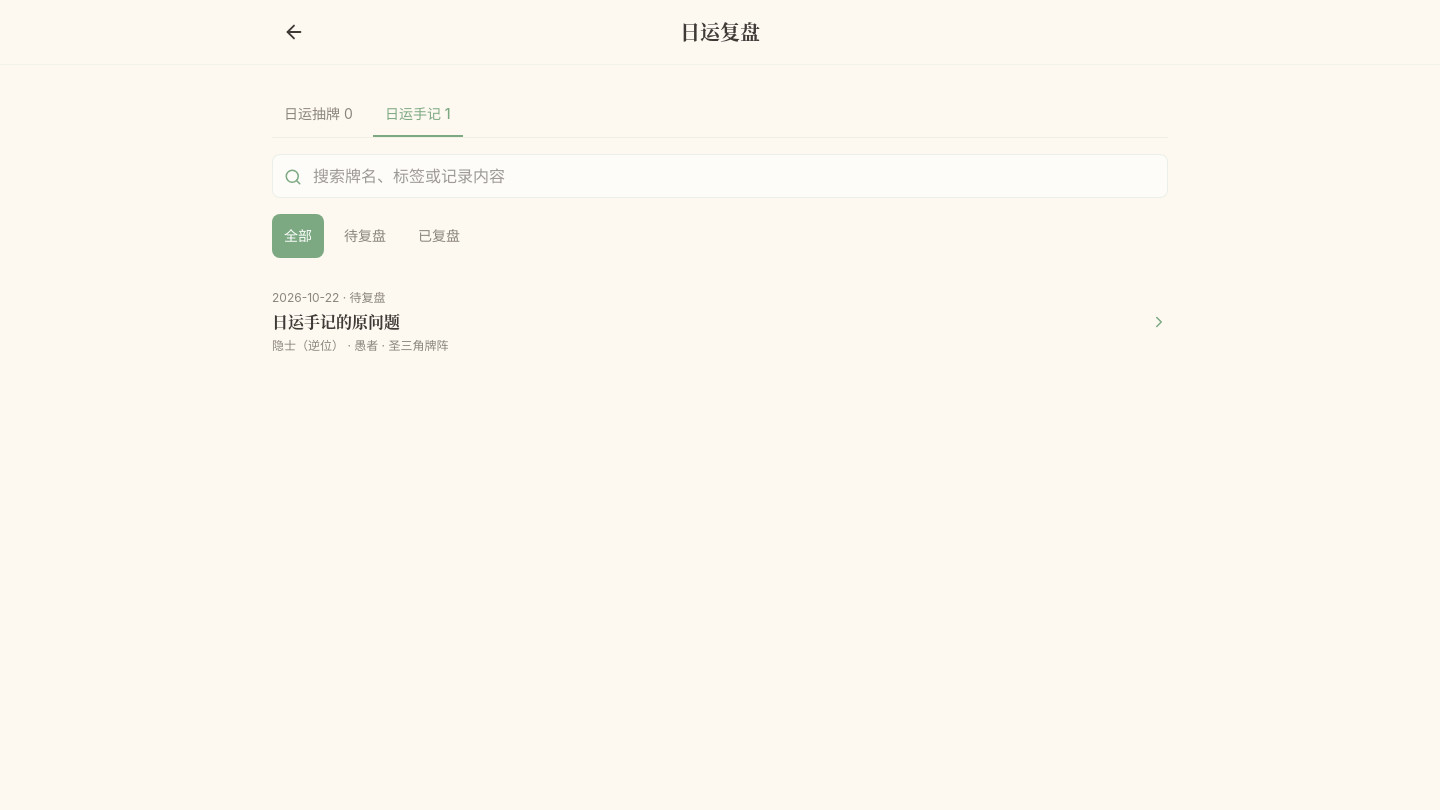
combined daily archive › opens daily handnotes when there are no system draws and preserves every card in the reader
The image size is (1440, 810).
Step 1. Type "湖边散步" into the field named "搜索日运手记" → (720, 176), box [272,154,1168,198]
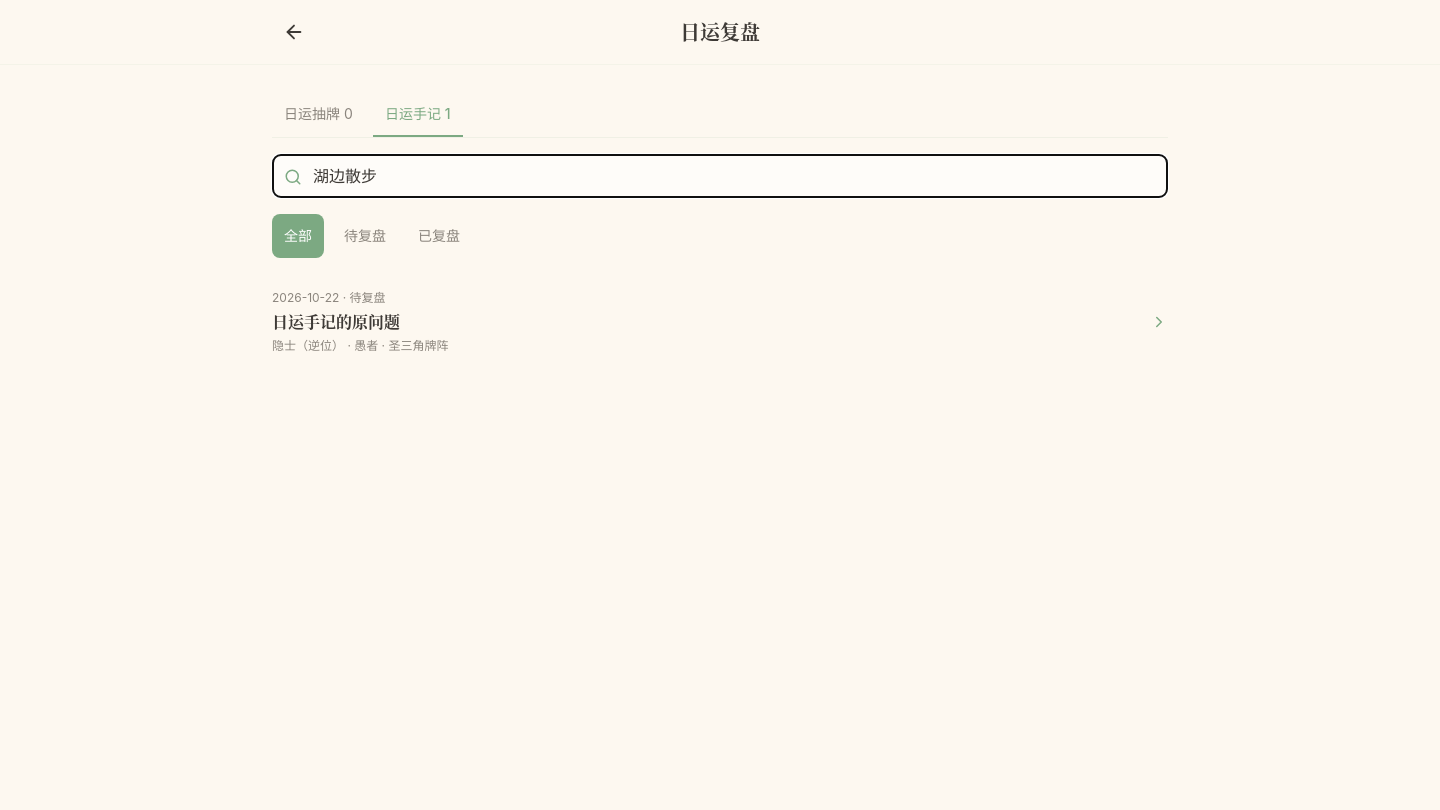
Step 2. Click the button "2026-10-22 · 待复盘 日运手记的原问题 隐士（逆位） · 愚者 · 圣三角牌阵" → (306, 298), box [272,274,1168,370]
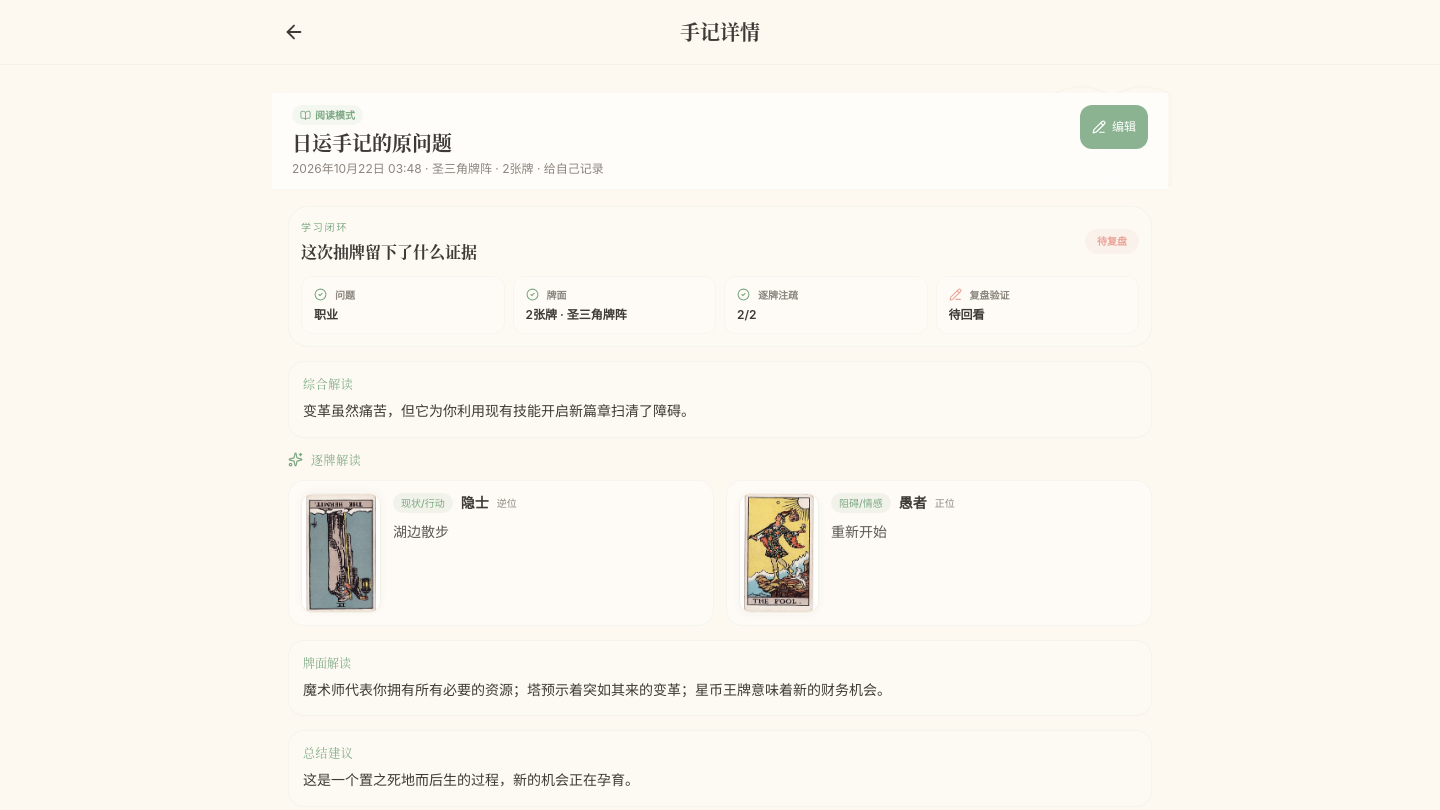
Expected: the element "手记详情" is shown
Expected: the text "隐士" is shown, [461,493,489,513]
Expected: the text "愚者" is shown, [899,493,927,513]
Step 3. Press Escape
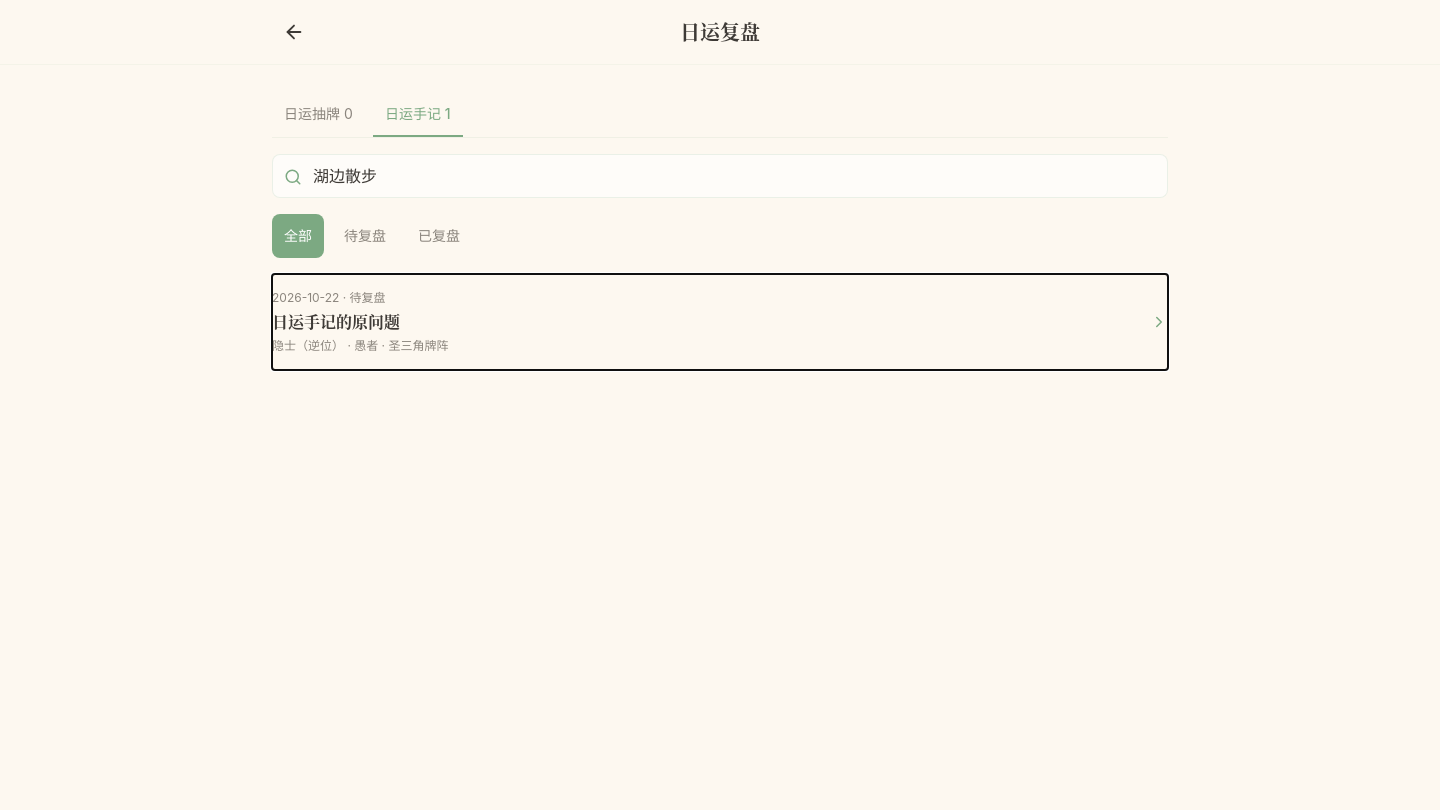
Expected: the heading "手记详情" is gone
